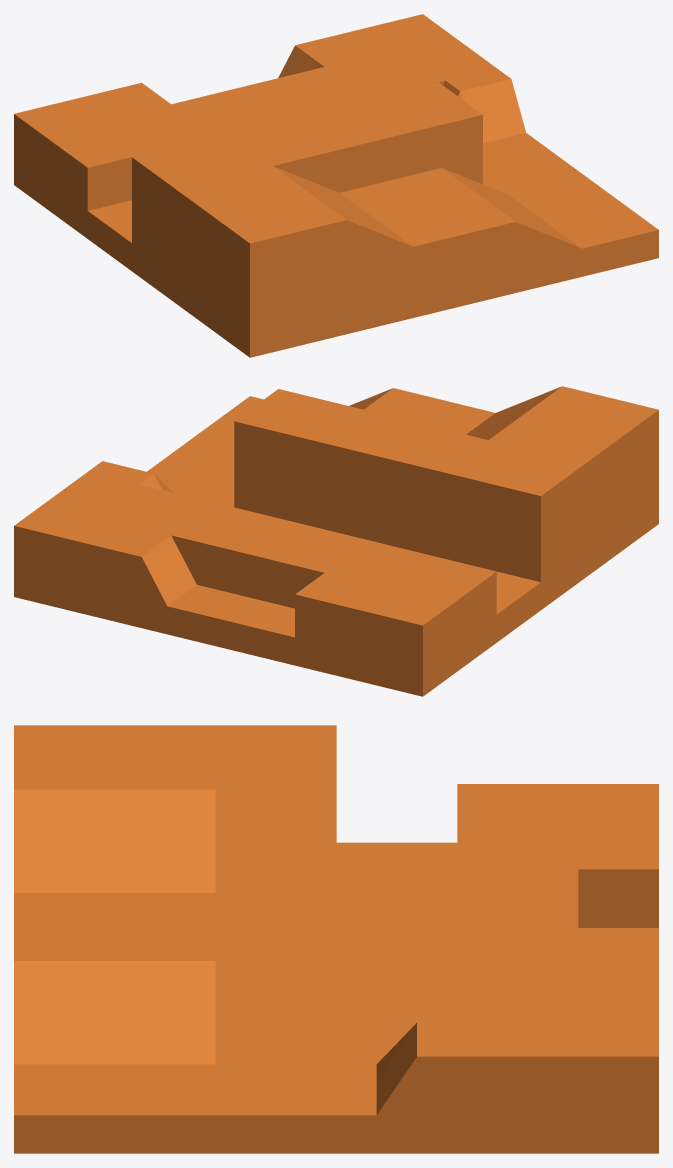
Rendered from road.glb.
3 renders of one model, top to bottom at view 1: azimuth 30°, elevation 25°; view 2: azimuth 150°, elevation 25°; view 3: azimuth 270°, elevation 25°, orthographic. The views are drawn at different scales.
Visible parts, largest first — view 1: Cube; view 2: Cube; view 3: Cube.
Boxes of the visible parts, left/top/right/bottom form: Cube: left=14, top=14, right=658, bottom=357; Cube: left=14, top=386, right=658, bottom=696; Cube: left=14, top=725, right=658, bottom=1153.
Size of the model in its own units: 9.94 by 2.65 by 9.94.
